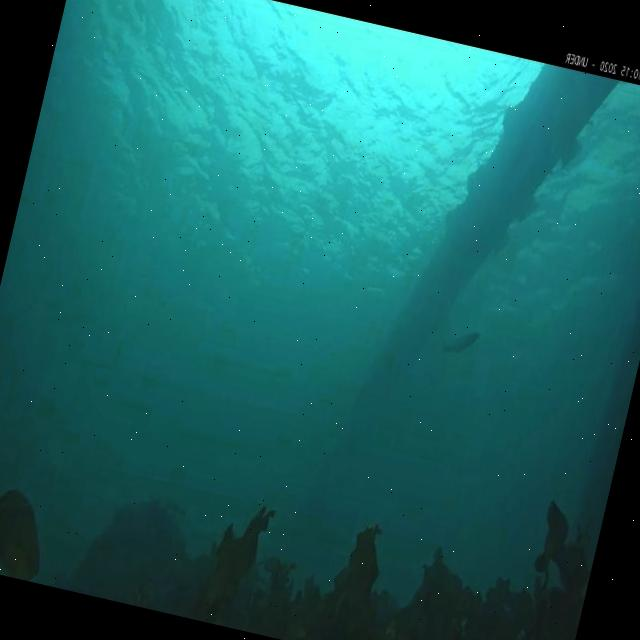fish: (438, 322, 481, 362)
